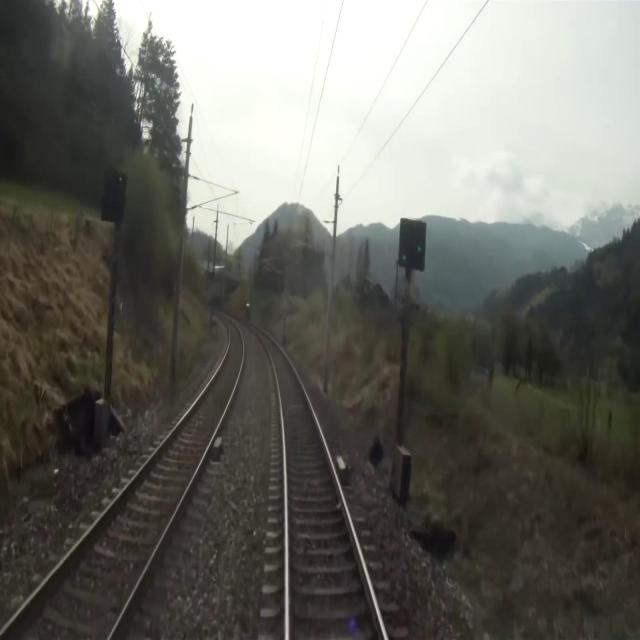rail-track: (0, 318, 242, 639), (252, 325, 383, 639)
